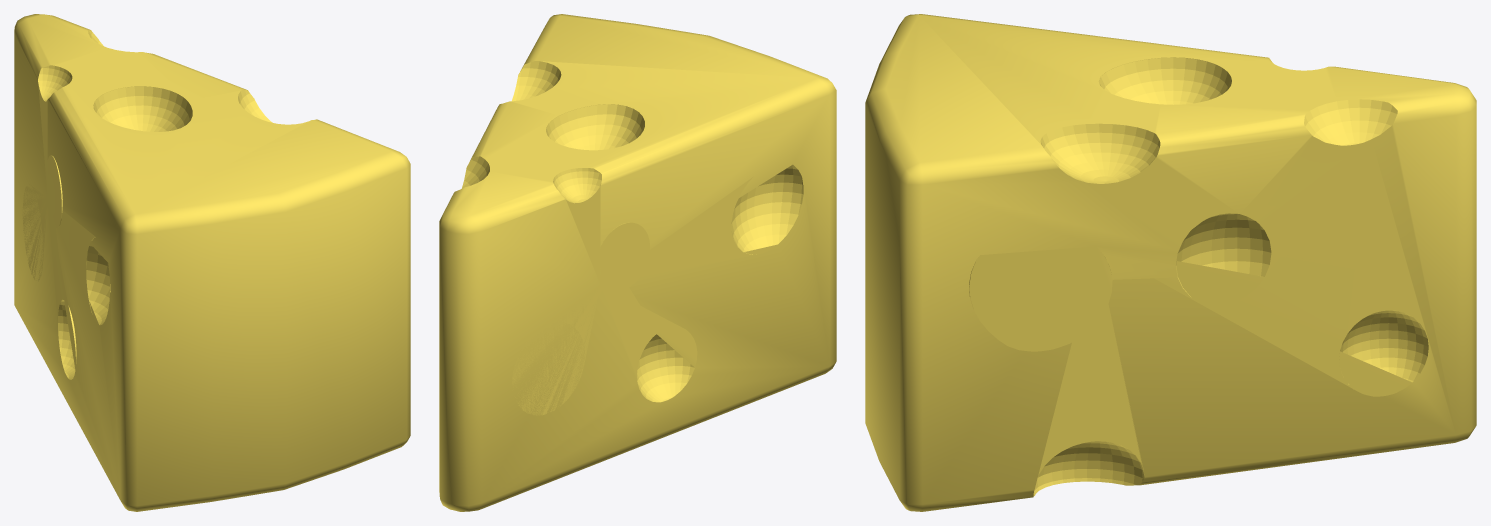
File: Cheesee.fbx
The picture shows the model from 3 angles, left to right: view 1: azimuth 30°, elevation 25°; view 2: azimuth 150°, elevation 25°; view 3: azimuth 270°, elevation 25°; orthographic projection. The views are drawn at different scales.
Visible parts, largest first — view 1: Cube.002; view 2: Cube.002; view 3: Cube.002.
Boxes of the visible parts, x1,y1,x2,y2 form: Cube.002: [14, 14, 410, 511]; Cube.002: [439, 14, 836, 511]; Cube.002: [865, 14, 1476, 511].
Size of the model in its own units: 178 by 177 by 282.
